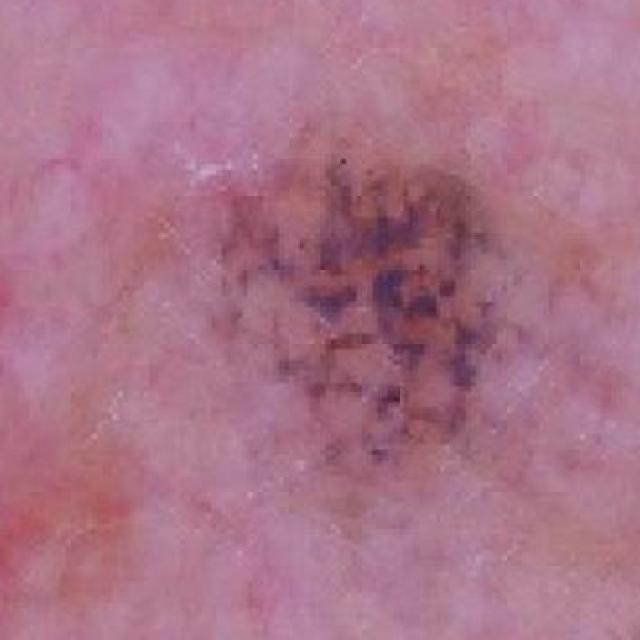BKL: (165, 113, 536, 485)
